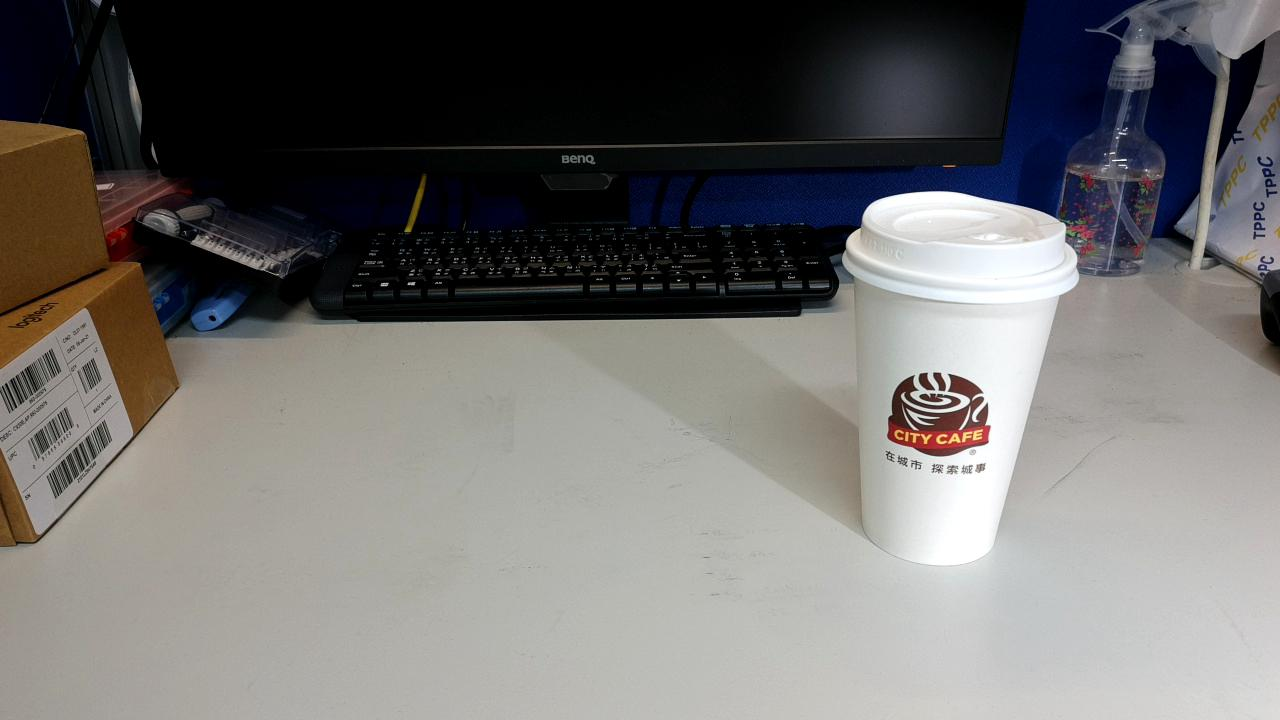columnar: (216, 310, 424, 558)
grip: (135, 373, 219, 520)
